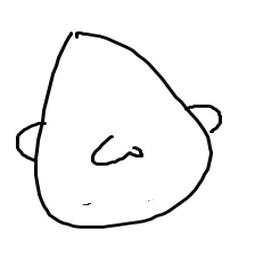ear: (8, 116, 44, 163), (184, 104, 228, 139)
nose: (81, 127, 149, 172)
